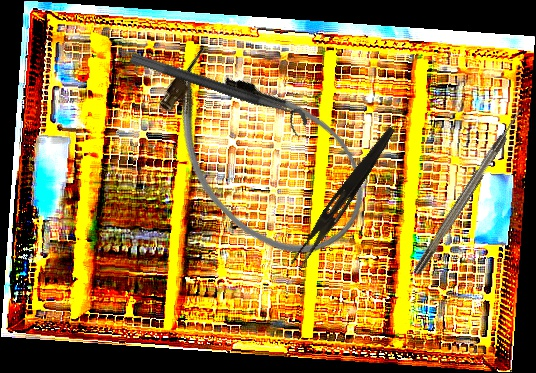Cannula: (130, 25, 392, 284)
Dressing Forceps: (289, 121, 398, 274)
Fixation Ring: (124, 51, 311, 139)
Hook Surgical: (411, 105, 527, 276)
